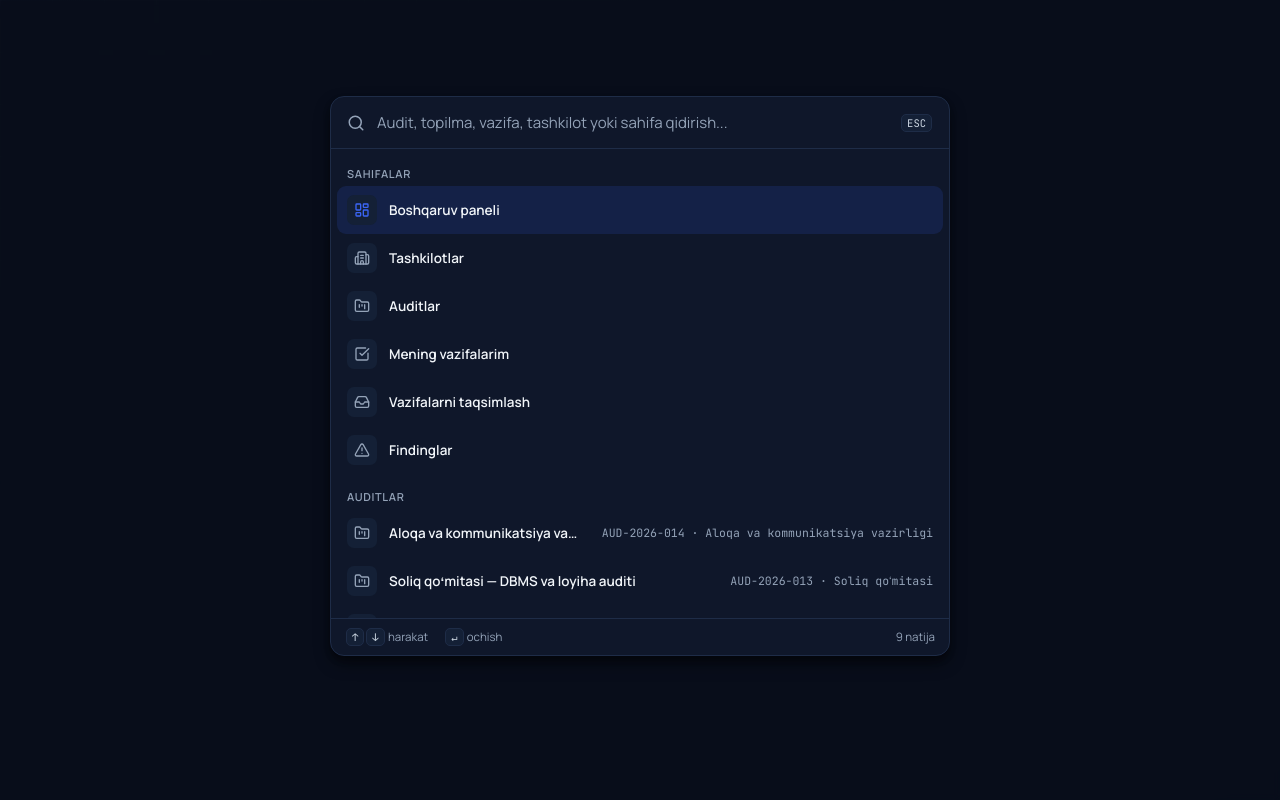
it: CommandPalette › shows an empty state for no matches
Type "zzzznomatch" into the field at (633, 122), box [375,111,890,134]
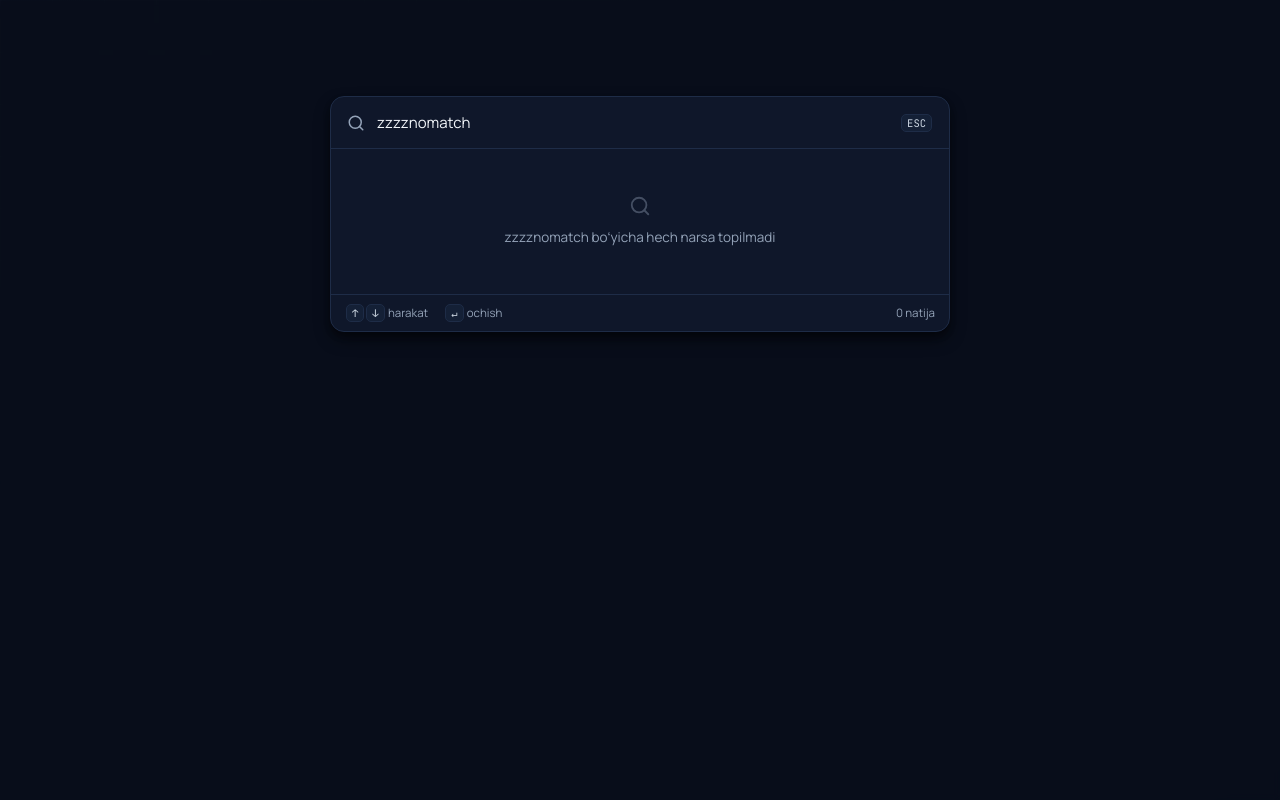
Expected: the text "zzzznomatch boʻyicha hech narsa topilmadi" is shown, [505,227,775,248]
